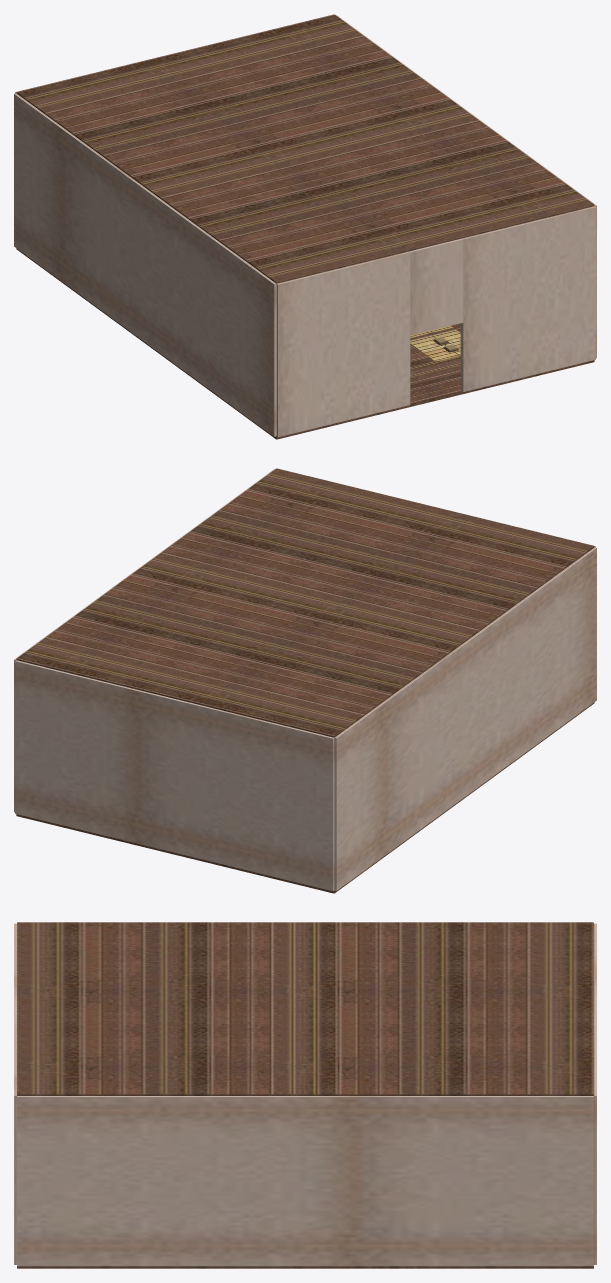
The model's file is amatsu-interior.glb.
The picture shows the model from 3 angles, top to bottom: view 1: azimuth 30°, elevation 25°; view 2: azimuth 150°, elevation 25°; view 3: azimuth 270°, elevation 25°; orthographic projection. The views are drawn at different scales.
Parts seen in each view (by area): view 1: AmatsuInterior, AmatsuCeiling; view 2: AmatsuInterior, AmatsuCeiling; view 3: AmatsuInterior, AmatsuCeiling.
Boxes of the visible parts, x1,y1,x2,y2 form: AmatsuInterior: (14,15,596,439); AmatsuCeiling: (16,14,594,283); AmatsuInterior: (14,469,596,893); AmatsuCeiling: (16,468,594,737); AmatsuInterior: (14,923,596,1268); AmatsuCeiling: (17,922,593,1095).
Bounding box in the file's own units: 24.35 × 11.34 × 34.35.
15 materials, 14 textured.
